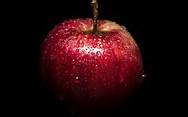apple: (48, 3, 141, 108)
